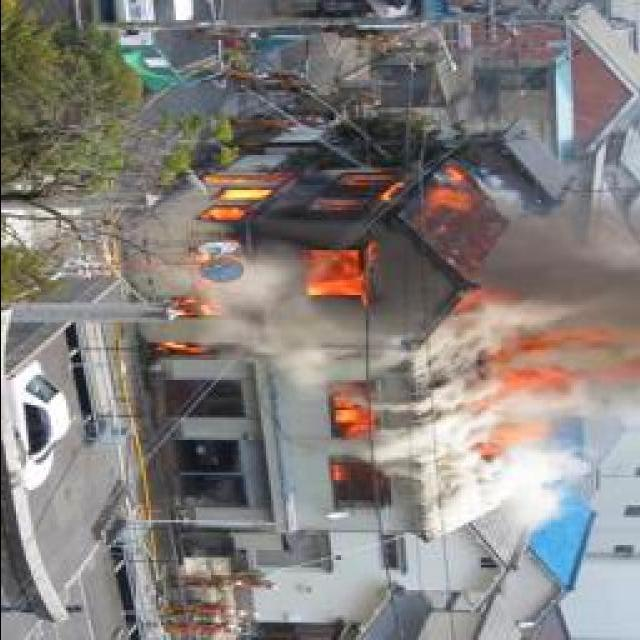Fire: (164, 172, 488, 312), (487, 326, 604, 448), (320, 384, 378, 482)
